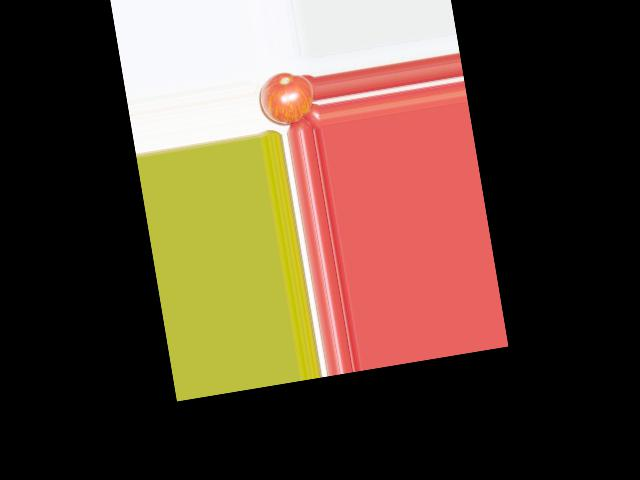tomato: (256, 67, 317, 128)
